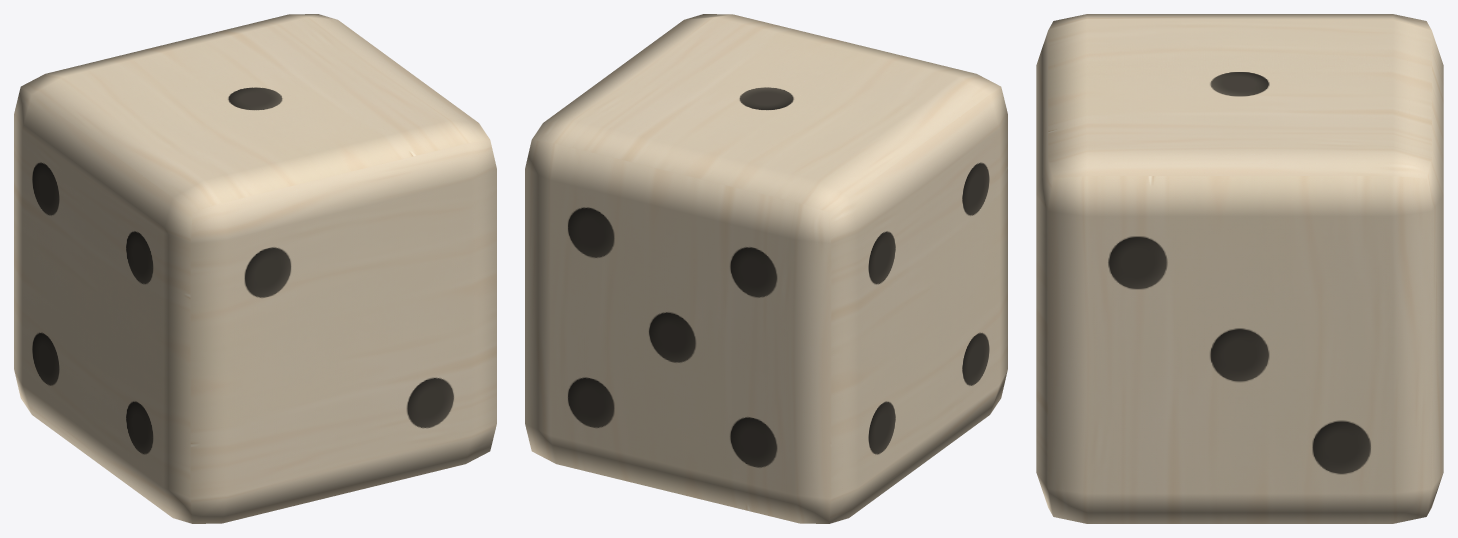
The model's file is die.glb.
The picture shows the model from 3 angles, left to right: view 1: azimuth 30°, elevation 25°; view 2: azimuth 150°, elevation 25°; view 3: azimuth 270°, elevation 25°; orthographic projection. The views are drawn at different scales.
Visible parts, largest first — view 1: die; view 2: die; view 3: die.
Part boxes in pixels (x1,y1,x2,y2): die: (14, 14, 496, 523); die: (525, 14, 1007, 523); die: (1036, 14, 1443, 523).
Bounding box in the file's own units: 1 × 1 × 1.
Materials: 1 (1 with a texture image).
